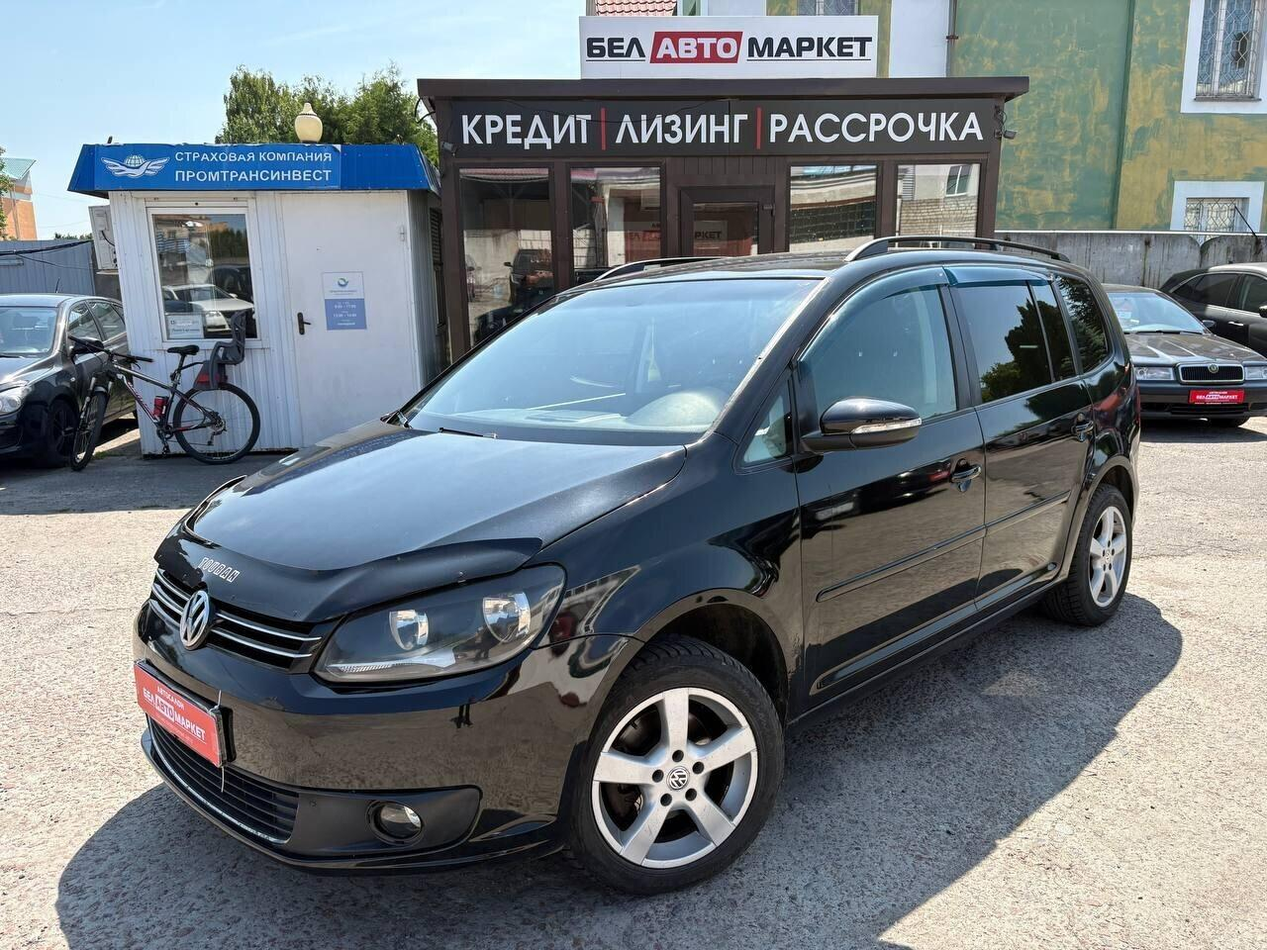Touran_2010-2015: (122, 241, 1146, 886)
